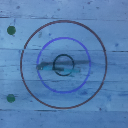Axe Tip: (39, 63, 49, 65)
